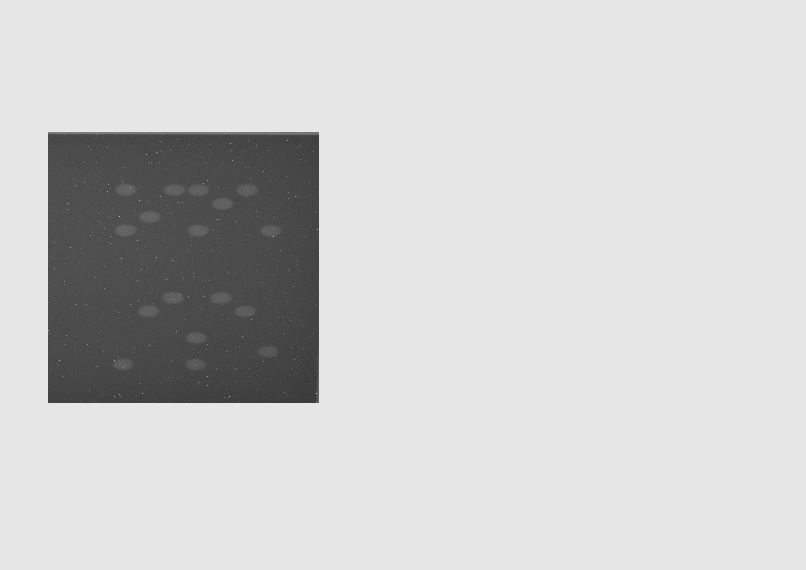cluster: (113, 289, 278, 371), (114, 181, 282, 237)
